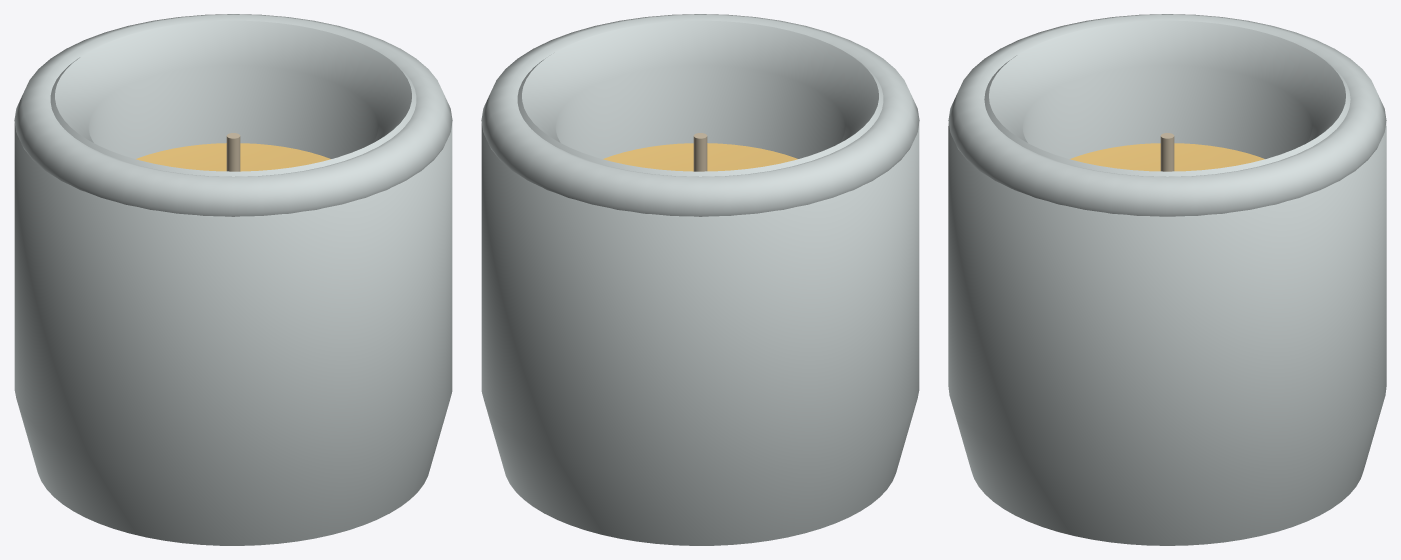
File: candlemaking-and-soap-workshop-glass-candle-jar-62e1a625__30664.glb
The picture shows the model from 3 angles, left to right: view 1: azimuth 30°, elevation 25°; view 2: azimuth 150°, elevation 25°; view 3: azimuth 270°, elevation 25°; orthographic projection.
Parts seen in each view (by area): view 1: glass-candle-jar; view 2: glass-candle-jar; view 3: glass-candle-jar.
Boxes of the visible parts, box(x1,y1,x2,y2) form: glass-candle-jar: box(14, 14, 452, 545); glass-candle-jar: box(481, 14, 919, 545); glass-candle-jar: box(948, 14, 1386, 545).
Bounding box in the file's own units: 0.13 × 0.12 × 0.13.
